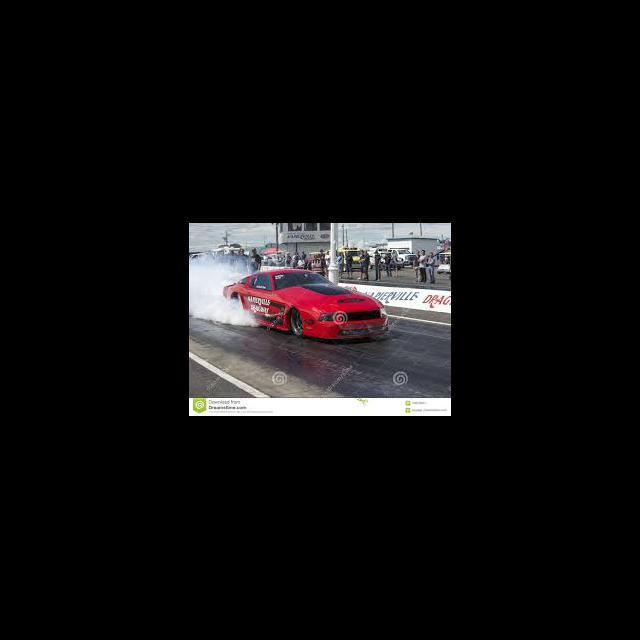Smoke: (190, 264, 220, 320), (221, 310, 247, 325), (221, 258, 237, 282)
